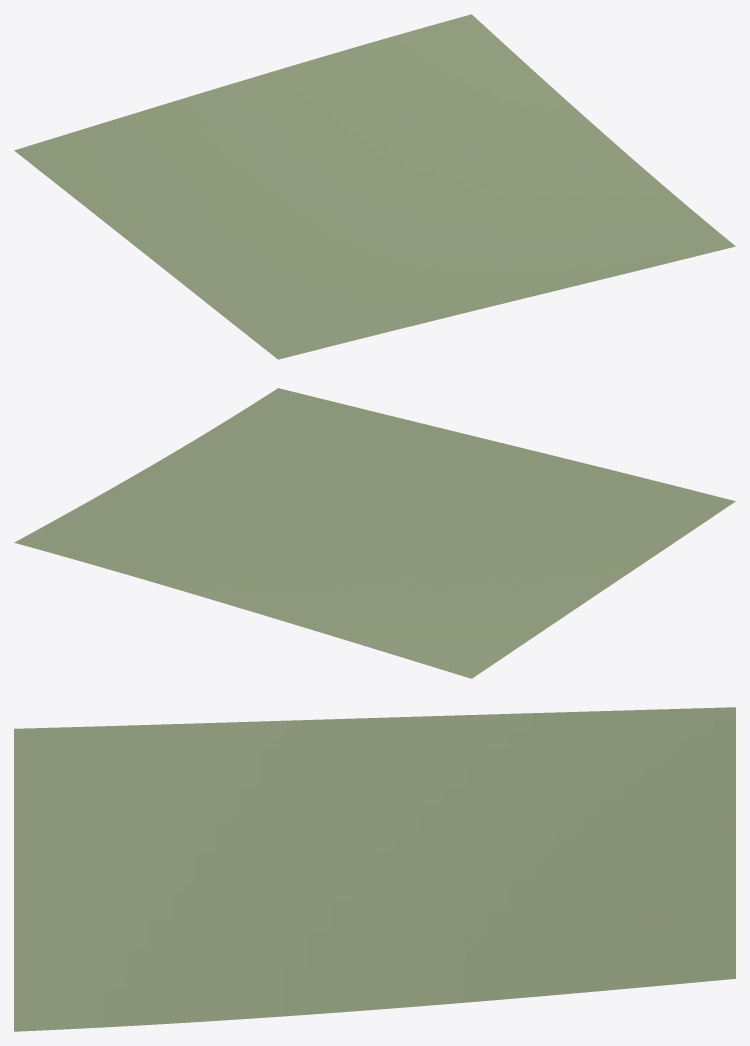
File: expanse-16-20.glb
3 views of the same model, one above another, from view 1: azimuth 30°, elevation 25°; view 2: azimuth 150°, elevation 25°; view 3: azimuth 270°, elevation 25° (orthographic). The views are drawn at different scales.
Parts seen in each view (by area): view 1: expanse-16-20; view 2: expanse-16-20; view 3: expanse-16-20.
Part boxes in pixels (<box>): expanse-16-20: <box>14,14,735,359</box>; expanse-16-20: <box>14,388,735,678</box>; expanse-16-20: <box>14,707,735,1031</box>.
Bounding box in the file's own units: 256 × 21.56 × 256.
